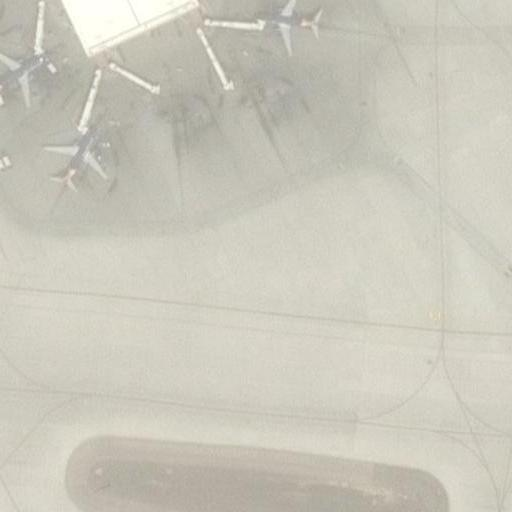Aircraft: (36, 115, 114, 199), (251, 0, 330, 54), (0, 43, 56, 117)
